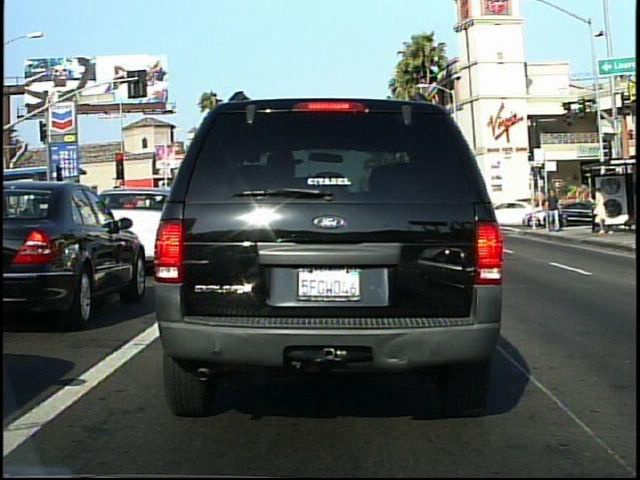person: (589, 183, 614, 236), (542, 184, 563, 235)
